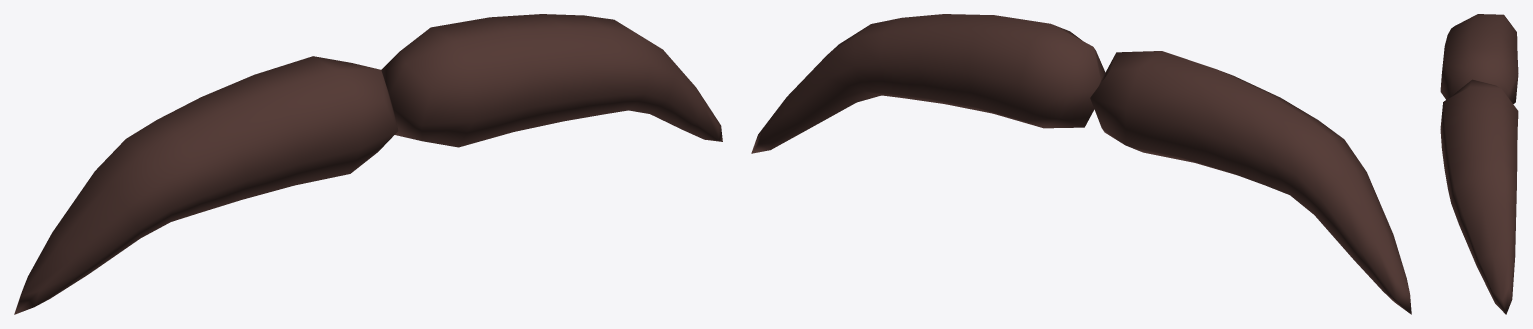
The model's file is Mustache_Brown_003.glb.
3 renders of one model, left to right at view 1: azimuth 30°, elevation 25°; view 2: azimuth 150°, elevation 25°; view 3: azimuth 270°, elevation 25°, orthographic. The views are drawn at different scales.
Parts seen in each view (by area): view 1: Mustache_Brown_003; view 2: Mustache_Brown_003; view 3: Mustache_Brown_003.
Part boxes in pixels (x1,y1,x2,y2): Mustache_Brown_003: [14, 14, 722, 314]; Mustache_Brown_003: [751, 14, 1411, 314]; Mustache_Brown_003: [1440, 14, 1518, 314].
Size of the model in its own units: 0.2498 by 0.0646 by 0.0351.
Materials: 1 (1 with a texture image).
